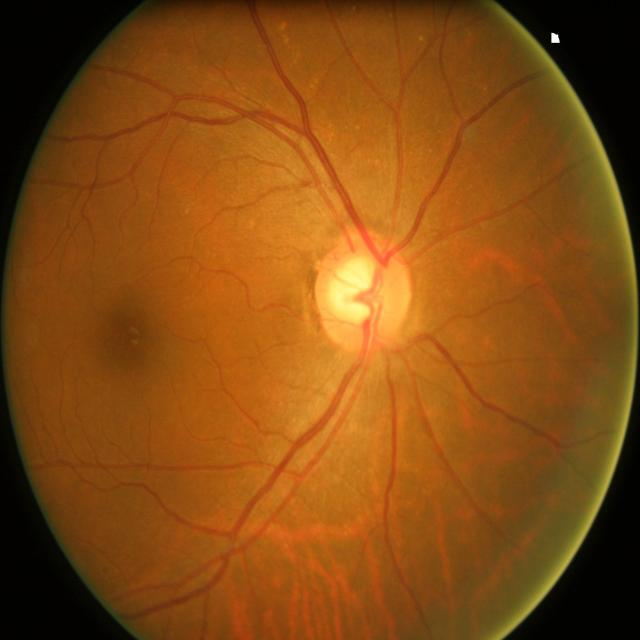OC: (328, 254, 376, 324)
OD: (313, 230, 413, 350)
